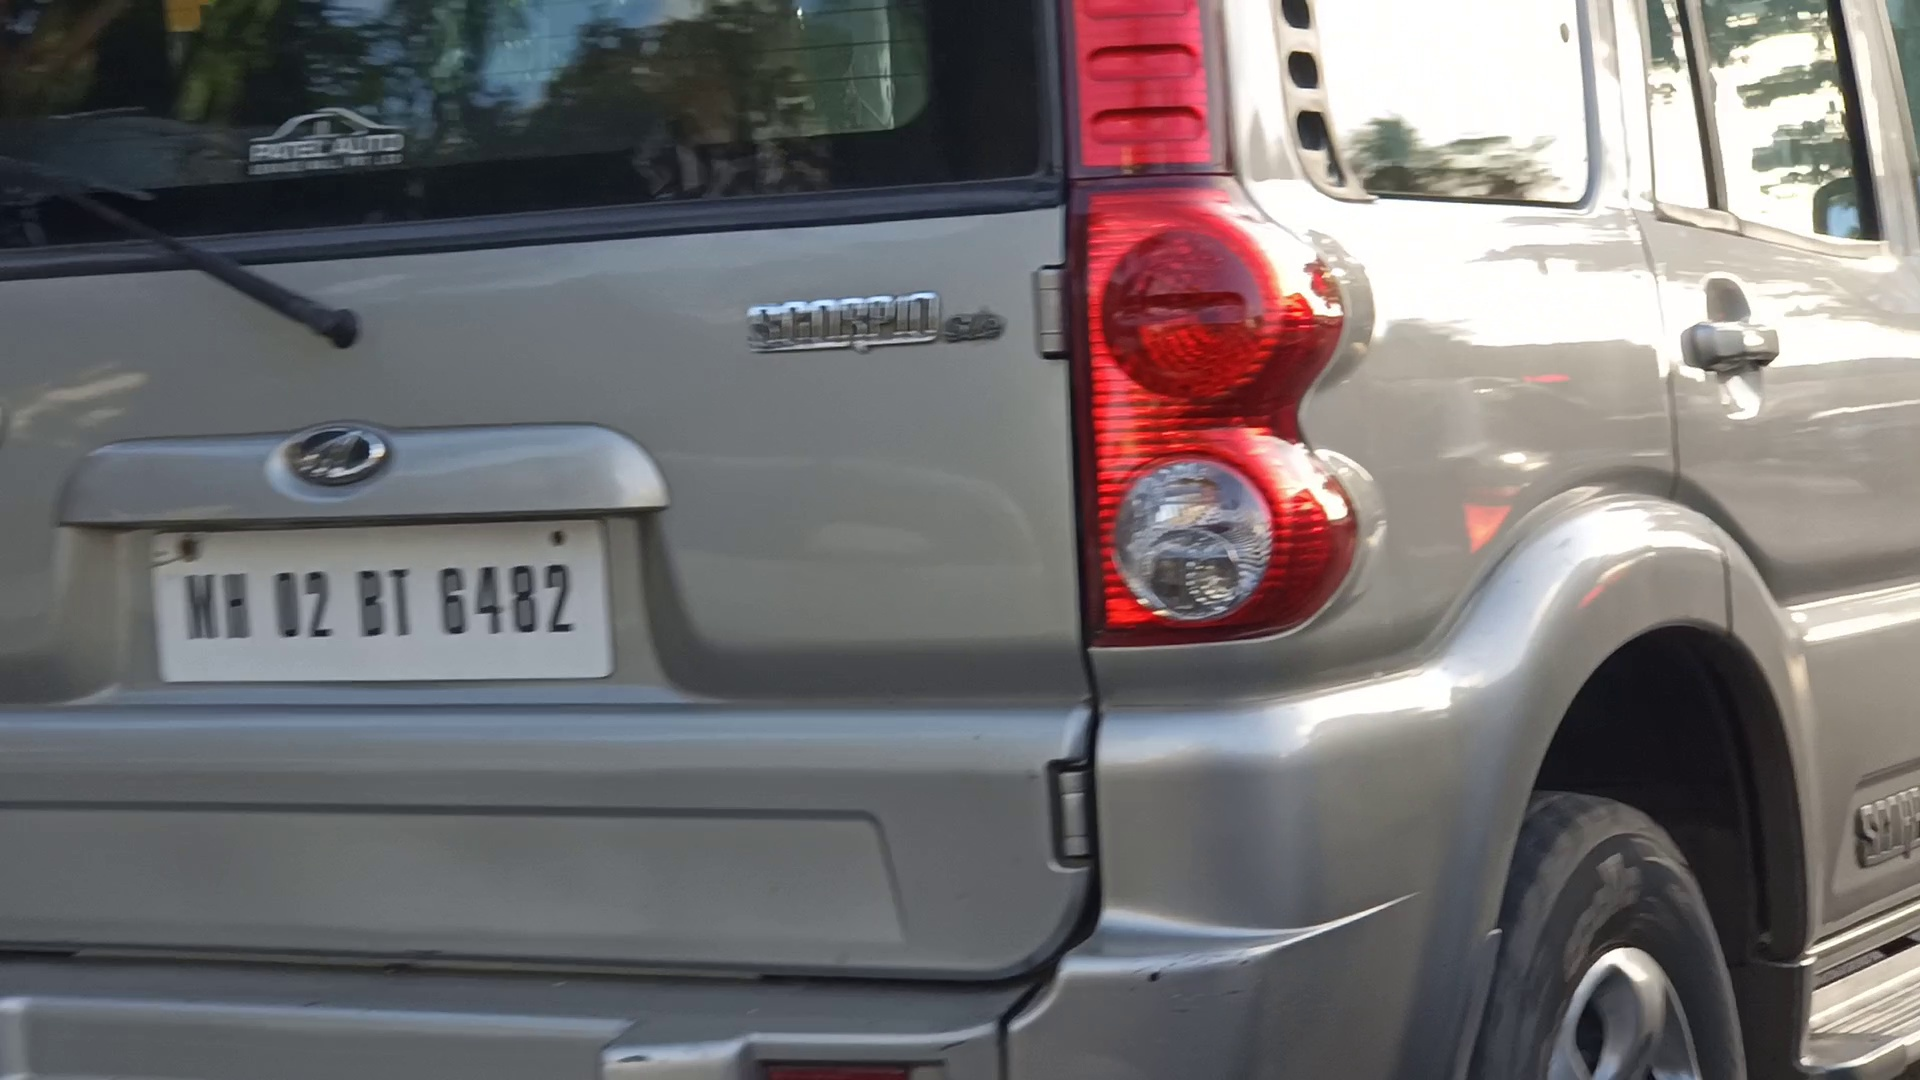MH02BT6482: (152, 517, 616, 682)
